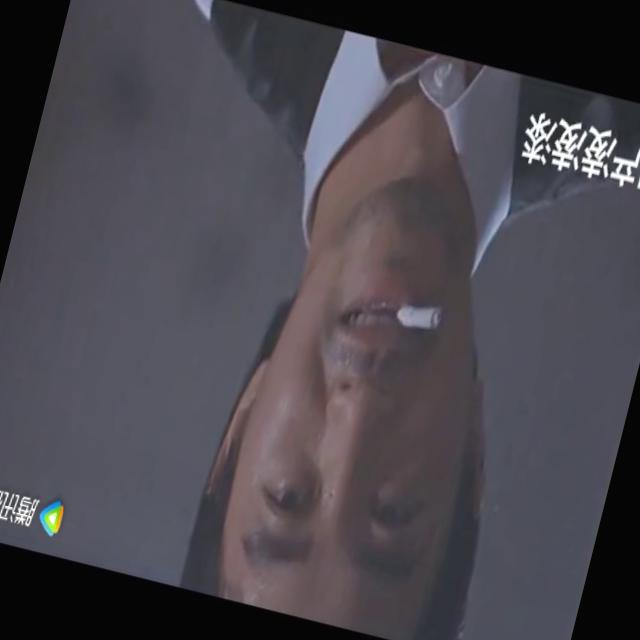smoke: (396, 295, 446, 338)
